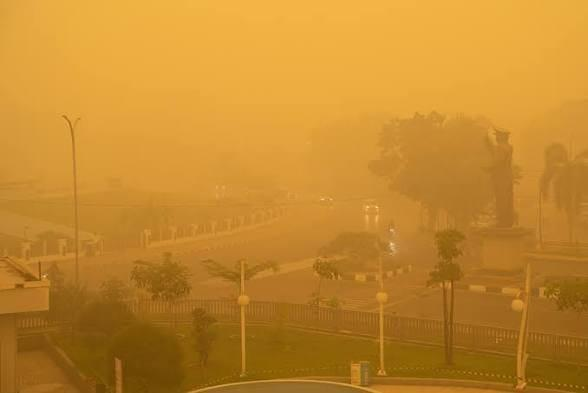Deteksi-Objek-Citra-Berasap: (0, 0, 588, 393)
Gedung: (0, 250, 50, 393)
Kendaraan: (360, 200, 382, 223), (316, 193, 339, 207)
Vegetasi: (366, 108, 518, 241), (58, 296, 185, 393), (424, 224, 471, 366), (538, 140, 588, 230), (314, 232, 400, 278), (199, 257, 280, 305), (127, 249, 193, 306)
